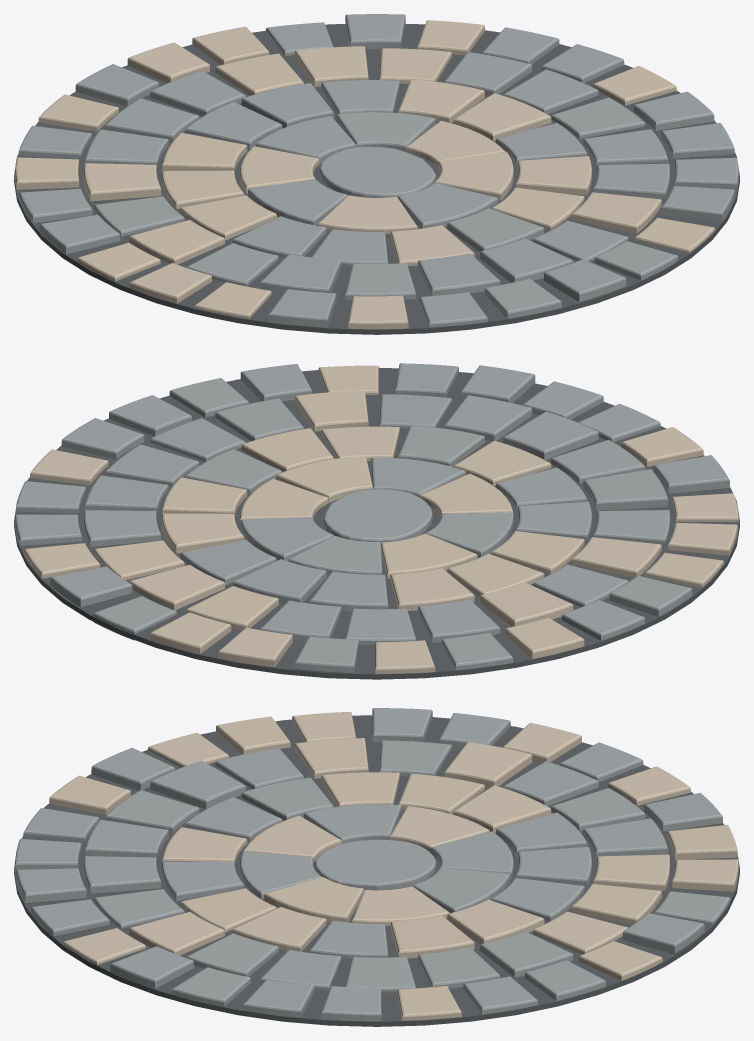
The model's file is GROVE_COURTYARD.glb.
The picture shows the model from 3 angles, top to bottom: view 1: azimuth 30°, elevation 25°; view 2: azimuth 150°, elevation 25°; view 3: azimuth 270°, elevation 25°; orthographic projection.
Visible parts, largest first — view 1: flags_mid, flags_light, grout; view 2: flags_mid, flags_light, grout; view 3: flags_mid, flags_light, grout.
Boxes of the visible parts, left/top/right/bottom form: flags_mid: left=18, top=14, right=738, bottom=332; flags_light: left=15, top=20, right=715, bottom=329; grout: left=14, top=24, right=739, bottom=334; flags_mid: left=15, top=363, right=729, bottom=673; flags_light: left=24, top=365, right=738, bottom=673; grout: left=14, top=367, right=739, bottom=679; flags_mid: left=15, top=708, right=730, bottom=1021; flags_light: left=49, top=711, right=738, bottom=1020; grout: left=14, top=715, right=739, bottom=1026.
Bounding box in the file's own units: 26 × 0.7035 × 26.
